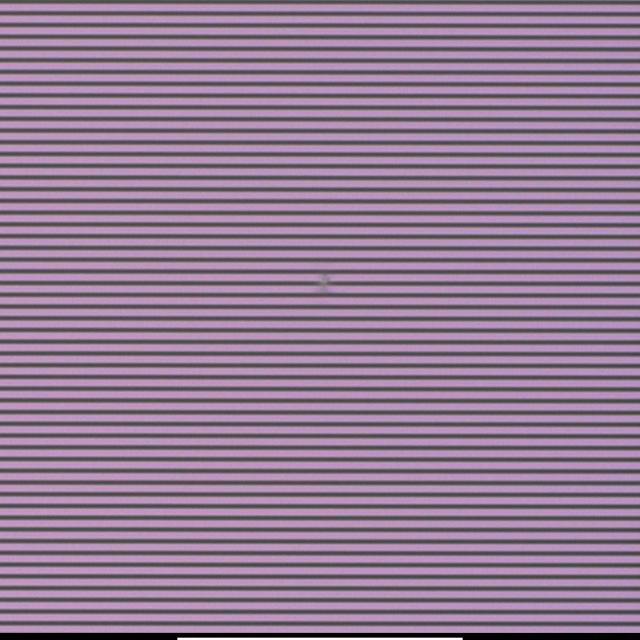nonvisual: (317, 270, 335, 292)
